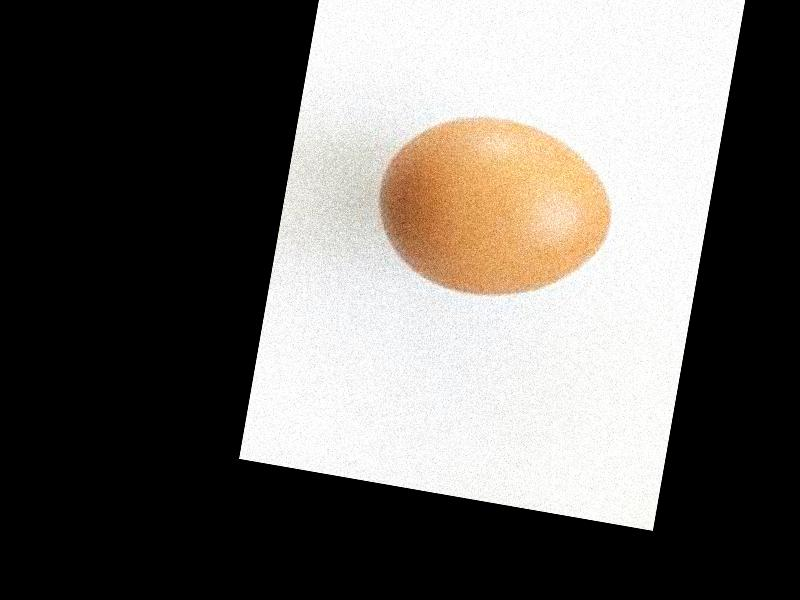Eggs: (362, 101, 627, 317)
